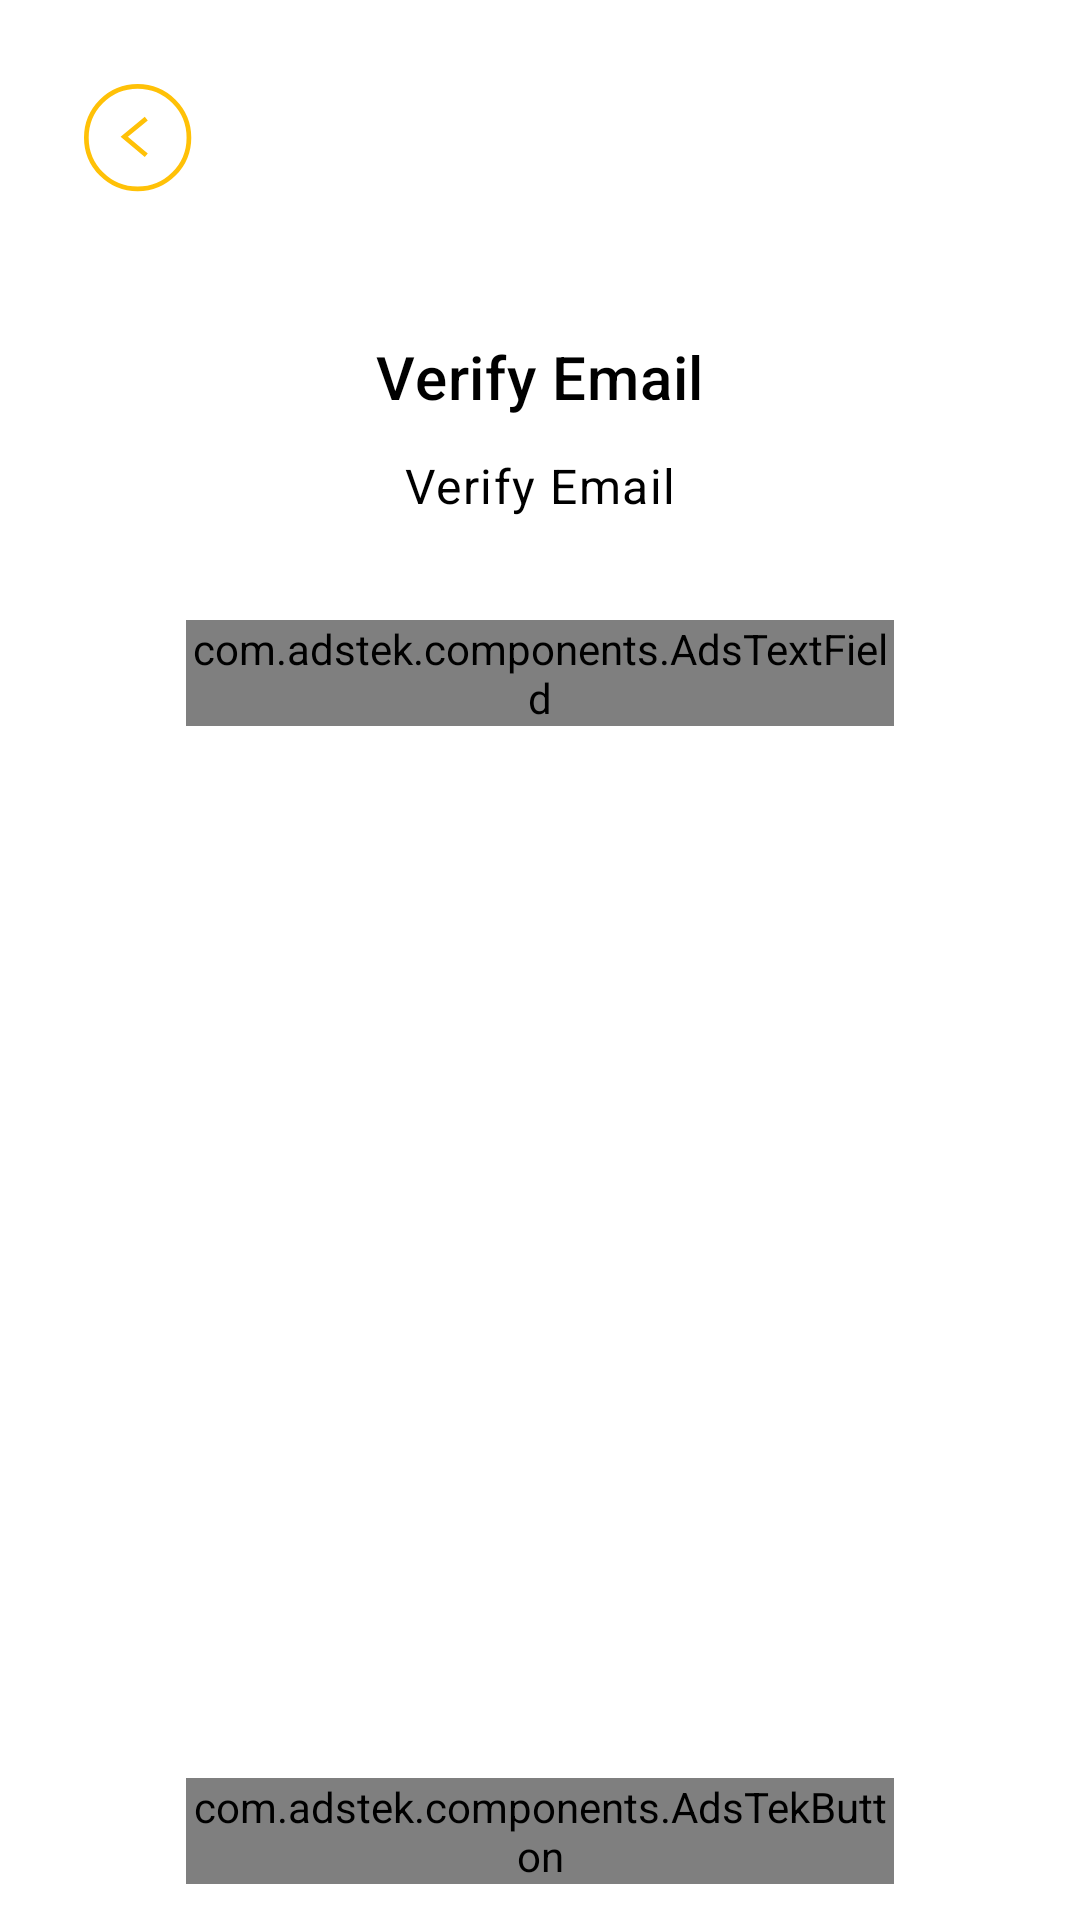

Named icons in this screenshot (1080 × 1920) and their bounding boxes, (x1, y1, x2, y2):
back vec: (84, 84, 192, 192)
